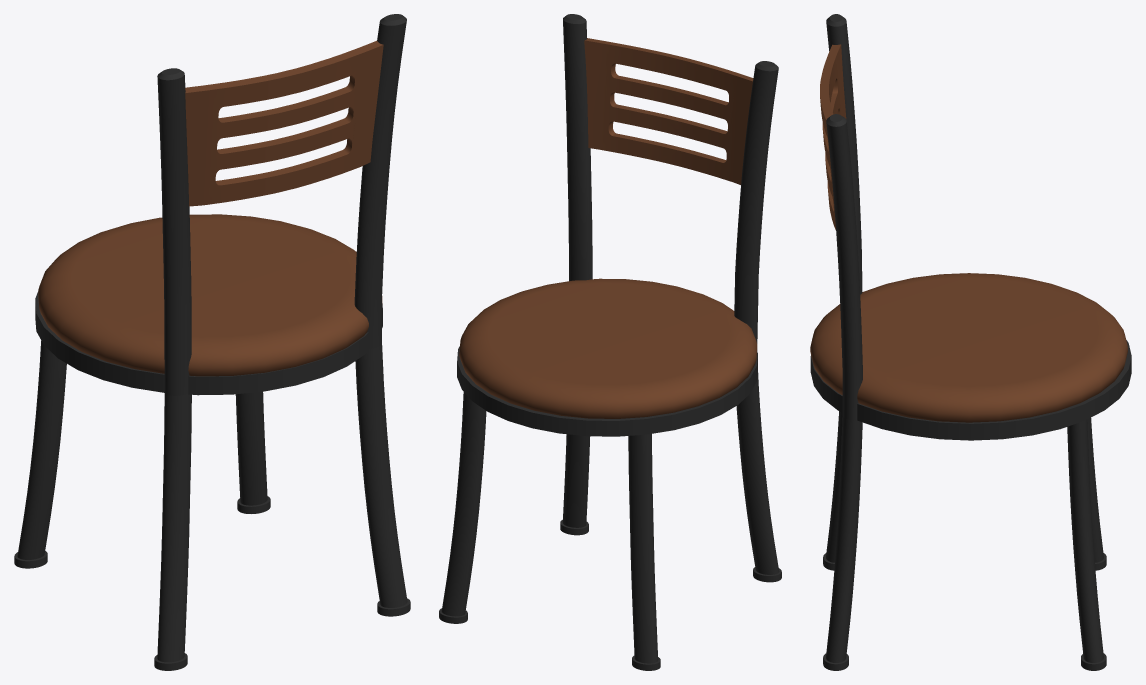
File: Chaise5_9.fbx
The picture shows the model from 3 angles, left to right: view 1: azimuth 30°, elevation 25°; view 2: azimuth 150°, elevation 25°; view 3: azimuth 270°, elevation 25°; orthographic projection. The views are drawn at different scales.
Visible parts, largest first — view 1: pCylinder1683, pCube2686, pCylinder1687, pCylinder1682, pCylinder1686, pCylinder1690, pCylinder1684, pCylinder1688, pCylinder1689; view 2: pCylinder1683, pCube2686, pCylinder1687, pCylinder1682, pCylinder1684, pCylinder1688, pCylinder1689, pCylinder1686, pCylinder1690; view 3: pCylinder1683, pCylinder1682, pCylinder1684, pCylinder1690, pCylinder1689, pCylinder1687, pCube2686, pCylinder1686, pCylinder1688.
Boxes of the visible parts, left/top/right/bottom form: pCylinder1683: left=38, top=214, right=382, bottom=376; pCube2686: left=185, top=40, right=383, bottom=206; pCylinder1687: left=157, top=68, right=191, bottom=395; pCylinder1682: left=354, top=14, right=406, bottom=349; pCylinder1686: left=154, top=393, right=191, bottom=670; pCylinder1690: left=355, top=344, right=410, bottom=616; pCylinder1684: left=35, top=291, right=382, bottom=395; pCylinder1688: left=14, top=340, right=66, bottom=568; pCylinder1689: left=235, top=391, right=270, bottom=513; pCylinder1683: left=459, top=278, right=757, bottom=418; pCube2686: left=584, top=38, right=753, bottom=184; pCylinder1687: left=734, top=61, right=778, bottom=343; pCylinder1682: left=563, top=14, right=592, bottom=281; pCylinder1684: left=457, top=346, right=757, bottom=436; pCylinder1688: left=628, top=434, right=660, bottom=670; pCylinder1689: left=439, top=392, right=486, bottom=623; pCylinder1686: left=736, top=370, right=781, bottom=582; pCylinder1690: left=560, top=434, right=590, bottom=535; pCylinder1683: left=810, top=273, right=1127, bottom=422; pCylinder1682: left=826, top=114, right=862, bottom=419; pCylinder1684: left=810, top=340, right=1131, bottom=440; pCylinder1690: left=823, top=416, right=862, bottom=670; pCylinder1689: left=1067, top=420, right=1106, bottom=670; pCylinder1687: left=826, top=14, right=862, bottom=294; pCube2686: left=820, top=44, right=846, bottom=229; pCylinder1686: left=823, top=411, right=842, bottom=570; pCylinder1688: left=1087, top=417, right=1106, bottom=570.
Size of the model in its own units: 44.7 by 83.92 by 44.78.
